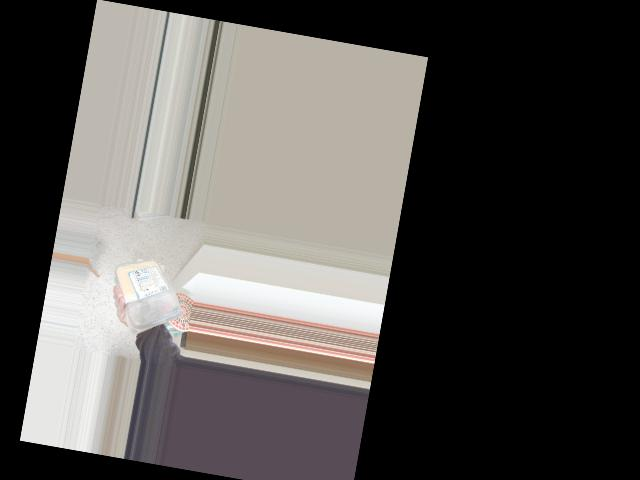cheese: (116, 253, 188, 331)
